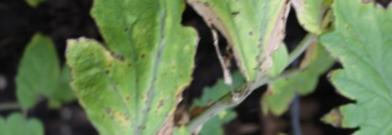Tomato Early blight leaf: (61, 0, 211, 135), (175, 0, 332, 96), (309, 0, 392, 119)
